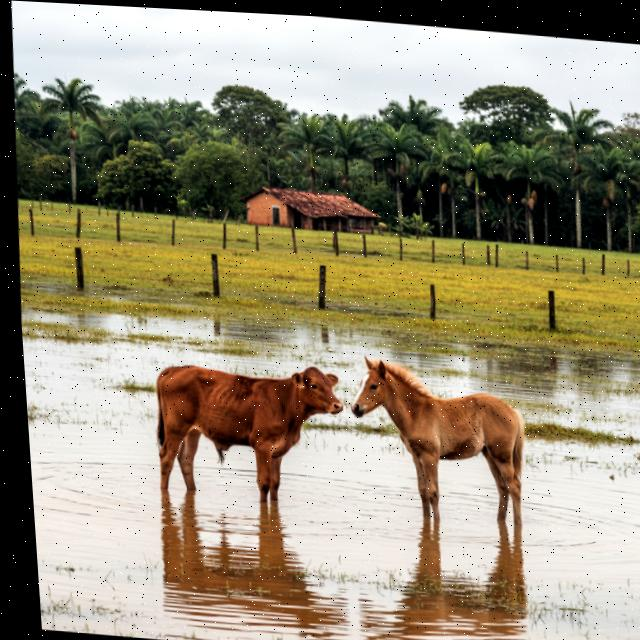cow: (142, 347, 357, 525)
horse: (342, 353, 539, 540)
